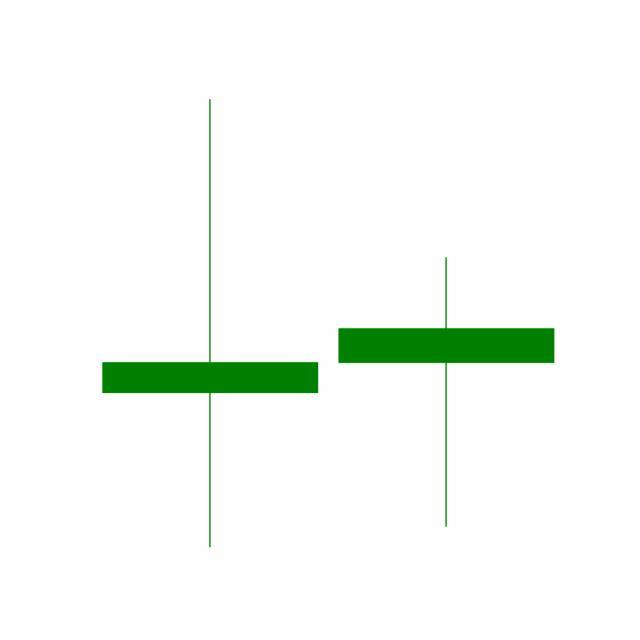Spinning Top: (328, 255, 566, 532)
